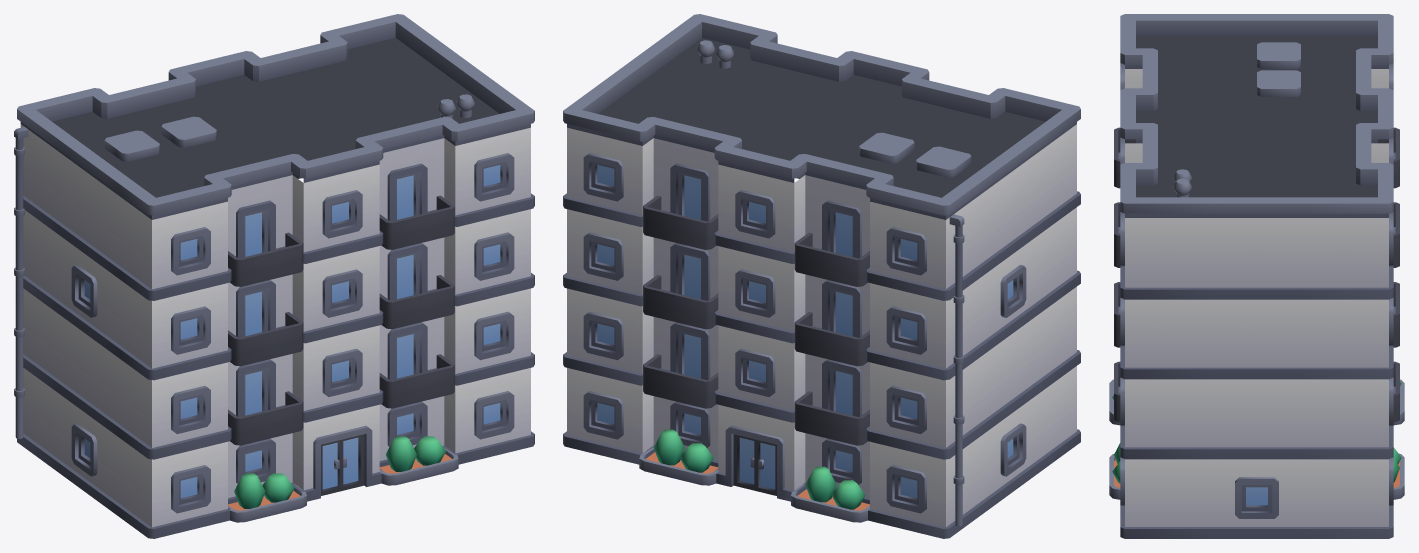
The model's file is kenney-city-commercial-building-j.glb.
The picture shows the model from 3 angles, left to right: view 1: azimuth 30°, elevation 25°; view 2: azimuth 150°, elevation 25°; view 3: azimuth 270°, elevation 25°; orthographic projection.
Visible parts, largest first — view 1: building-j; view 2: building-j; view 3: building-j.
Boxes of the visible parts, x1,y1,x2,y2 form: building-j: [14, 14, 534, 538]; building-j: [563, 14, 1080, 538]; building-j: [1109, 14, 1404, 538].
Size of the model in its own units: 2.08 by 1.69 by 1.34.
1 material, 1 textured.
